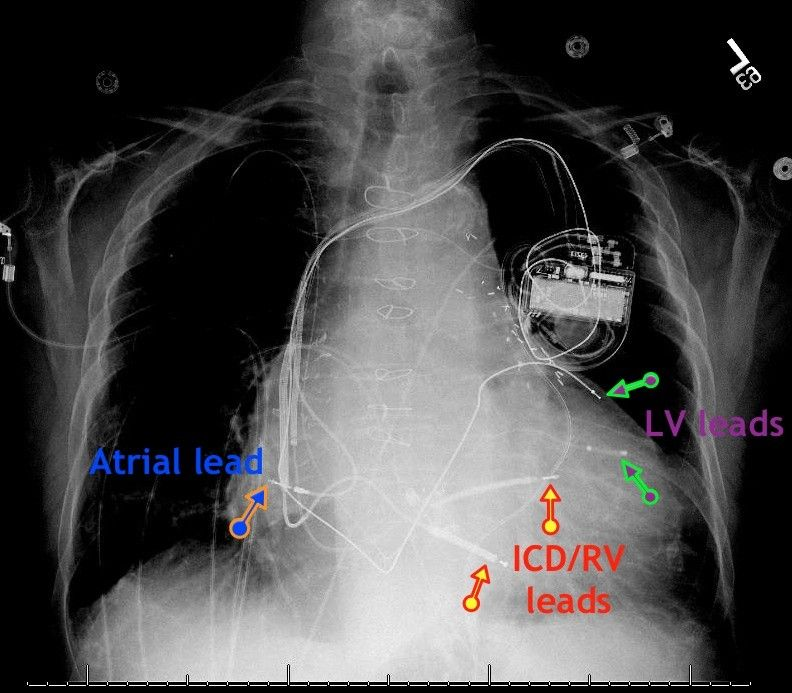telestration: (512, 538, 624, 614), (86, 444, 271, 477), (642, 406, 783, 442), (620, 456, 662, 507), (231, 485, 268, 539), (609, 369, 655, 399), (537, 485, 566, 532), (465, 564, 490, 611)
